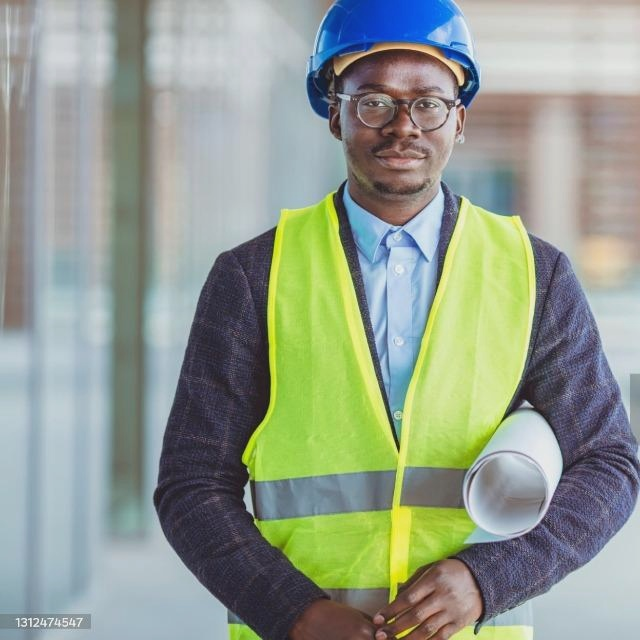Con_Chaleco: (262, 200, 555, 640)
